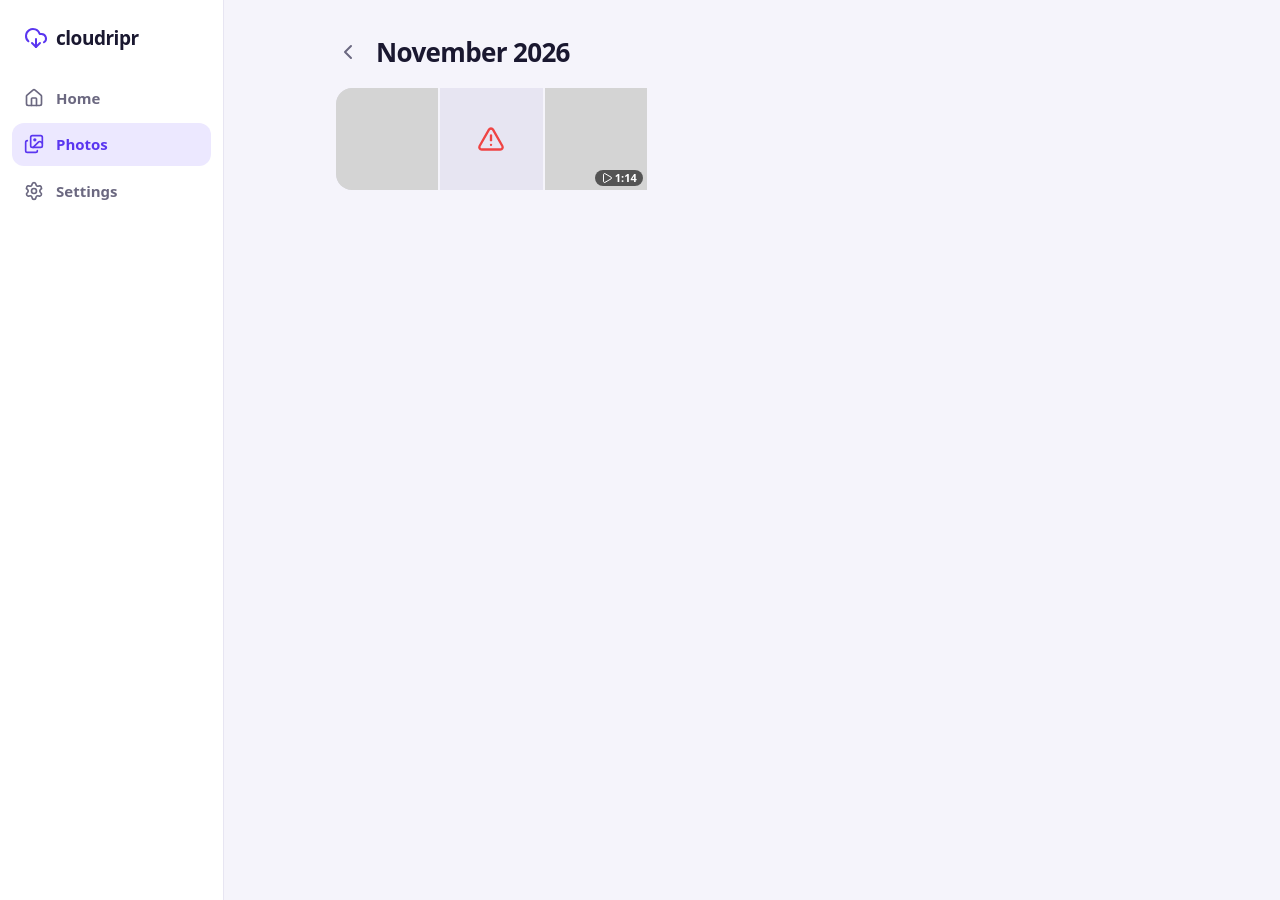
it: an unreadable file opens to an explanation instead of a broken image
This screenshot has width=1280, height=900.
Click the button named "BAD.HEIC": (491, 139) x1=440 y1=88 x2=543 y2=190
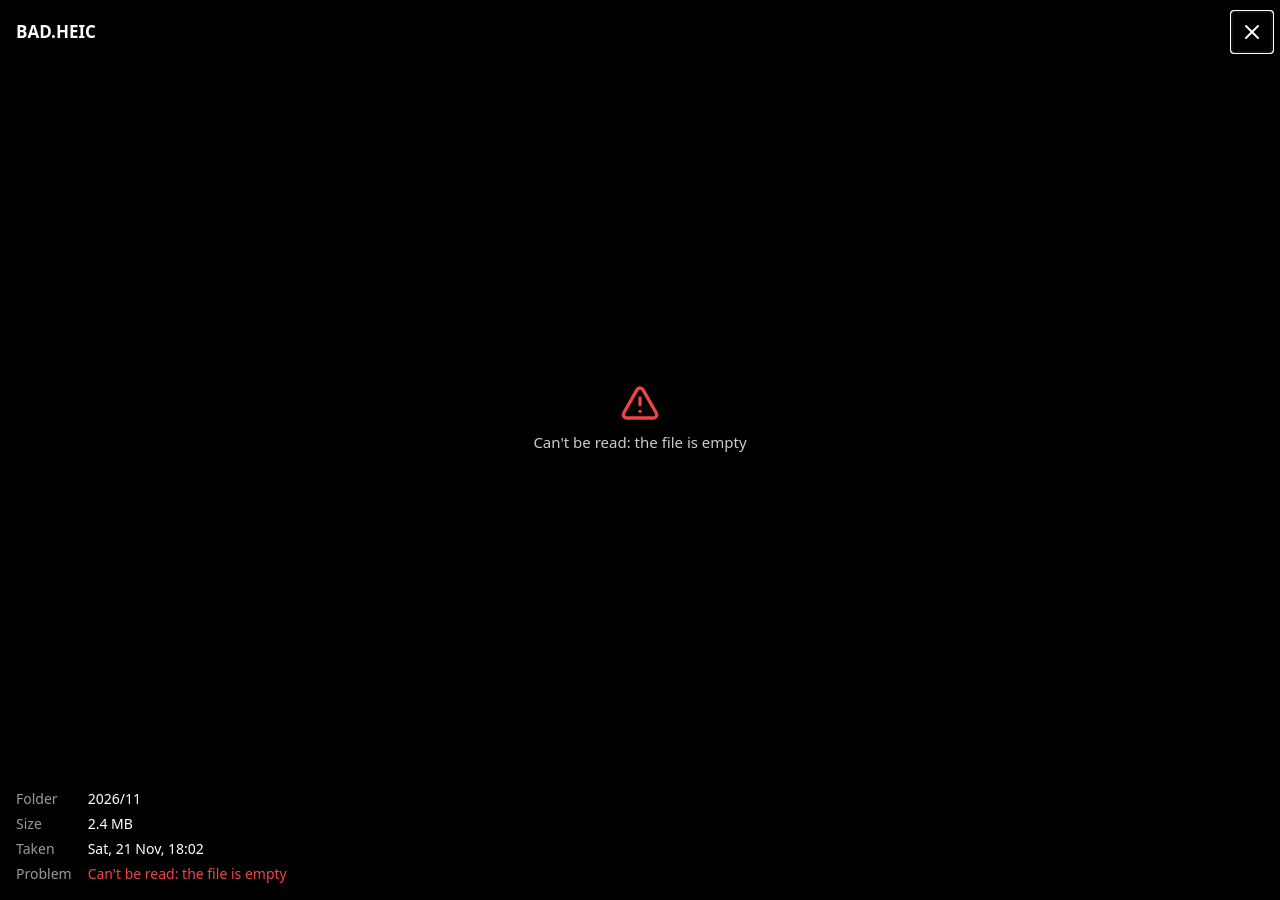
Expected: the 1st text "Can't be read: the file is empty" is shown, x1=533 y1=431 x2=747 y2=453
